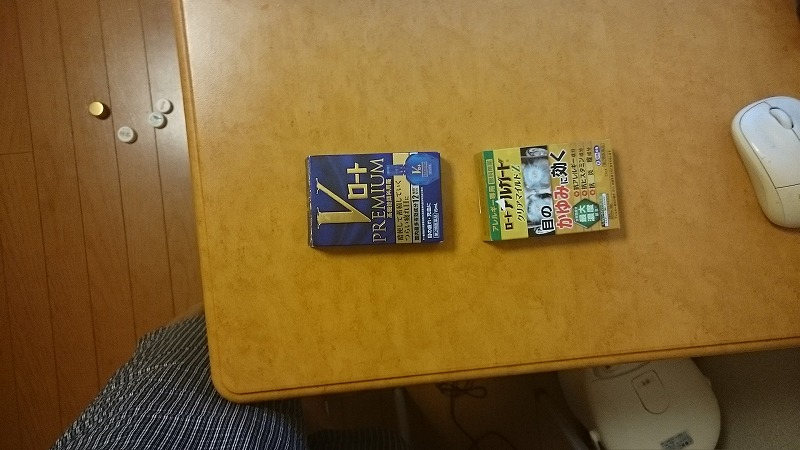C: (473, 139, 629, 248)
D: (302, 148, 448, 251)
